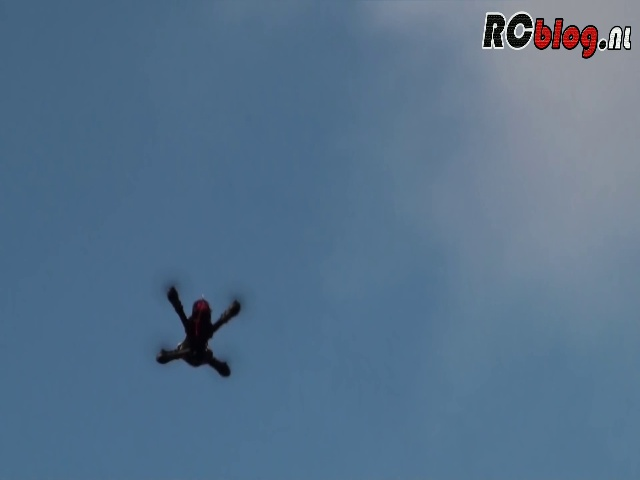drone: (150, 282, 246, 385)
